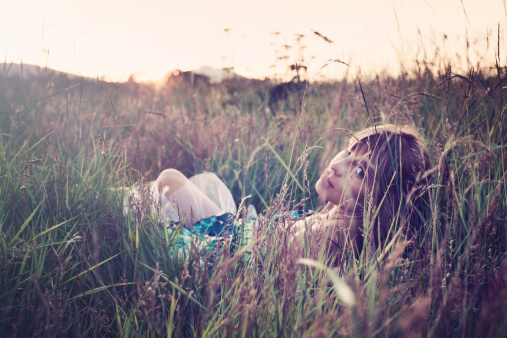deitado: (286, 100, 478, 330)
